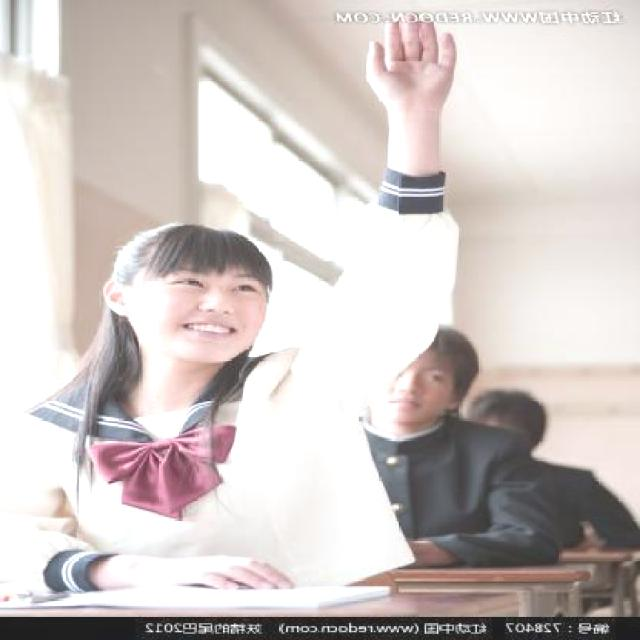face_nomask: (129, 256, 266, 362)
hand_noglove: (362, 14, 462, 123), (123, 552, 292, 594)
head_nohelmet: (122, 214, 289, 280)
person: (0, 14, 468, 635)
